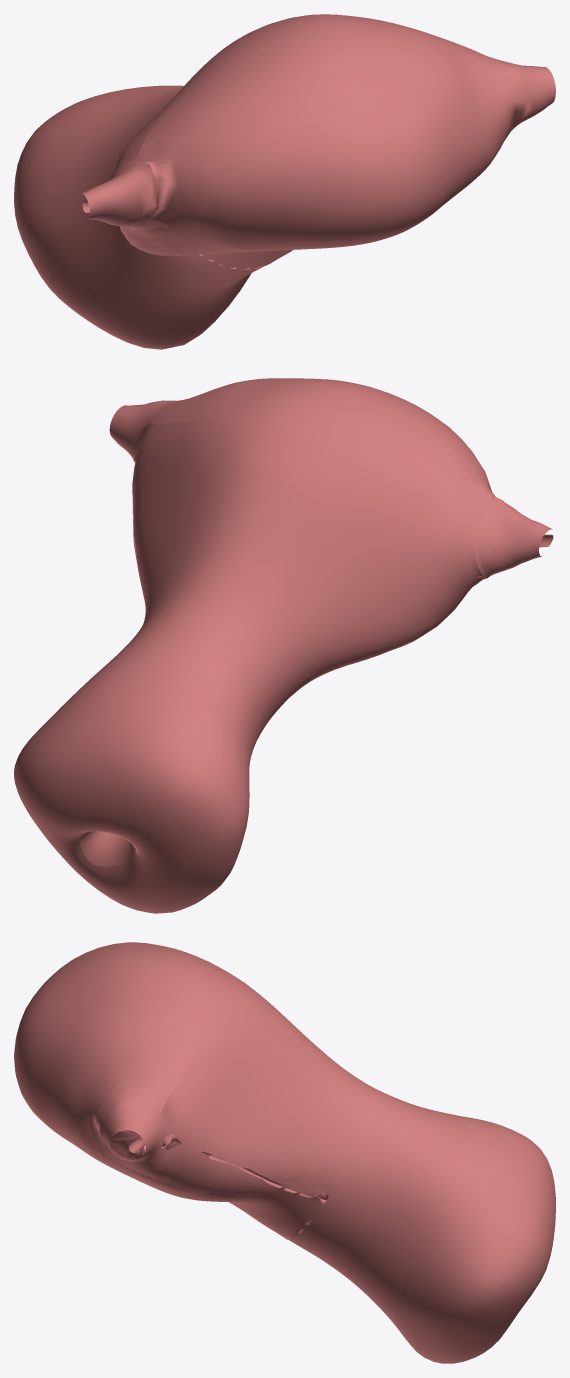
Rendered from vh_f_uterus-100.glb.
The picture shows the model from 3 angles, top to bottom: view 1: azimuth 30°, elevation 25°; view 2: azimuth 150°, elevation 25°; view 3: azimuth 270°, elevation 25°; orthographic projection. The views are drawn at different scales.
Parts seen in each view (by area): view 1: VH_F_fundus_of_uterus, VH_F_cervix, VH_F_cornua, VH_F_posterior_wall_of_uterus, VH_F_lower_uterine_segment, VH_F_body_of_uterus; view 2: VH_F_body_of_uterus, VH_F_cervix, VH_F_fundus_of_uterus, VH_F_lower_uterine_segment, VH_F_cornua, VH_F_external_cervical_os; view 3: VH_F_cervix, VH_F_body_of_uterus, VH_F_fundus_of_uterus, VH_F_lower_uterine_segment, VH_F_posterior_wall_of_uterus, VH_F_cornua, VH_F_anterior_wall_of_uterus.
Boxes of the visible parts, x1,y1,x2,y2 form: VH_F_fundus_of_uterus: (132,14,516,248); VH_F_cervix: (14,85,251,349); VH_F_cornua: (82,58,555,227); VH_F_posterior_wall_of_uterus: (140,147,500,269); VH_F_lower_uterine_segment: (119,87,262,285); VH_F_body_of_uterus: (114,18,511,268); VH_F_body_of_uterus: (132,421,486,694); VH_F_cervix: (14,642,261,913); VH_F_fundus_of_uterus: (142,378,495,513); VH_F_lower_uterine_segment: (124,600,296,737); VH_F_cornua: (109,400,552,578); VH_F_external_cervical_os: (79,831,136,866); VH_F_cervix: (332,1106,555,1363); VH_F_body_of_uterus: (112,962,366,1213); VH_F_fundus_of_uterus: (14,942,217,1163); VH_F_lower_uterine_segment: (289,1083,419,1266); VH_F_posterior_wall_of_uterus: (40,1119,326,1239); VH_F_cornua: (95,942,164,1164); VH_F_anterior_wall_of_uterus: (162,1134,328,1199).
Bounding box in the file's own units: 0.0525 × 0.047 × 0.0587.
